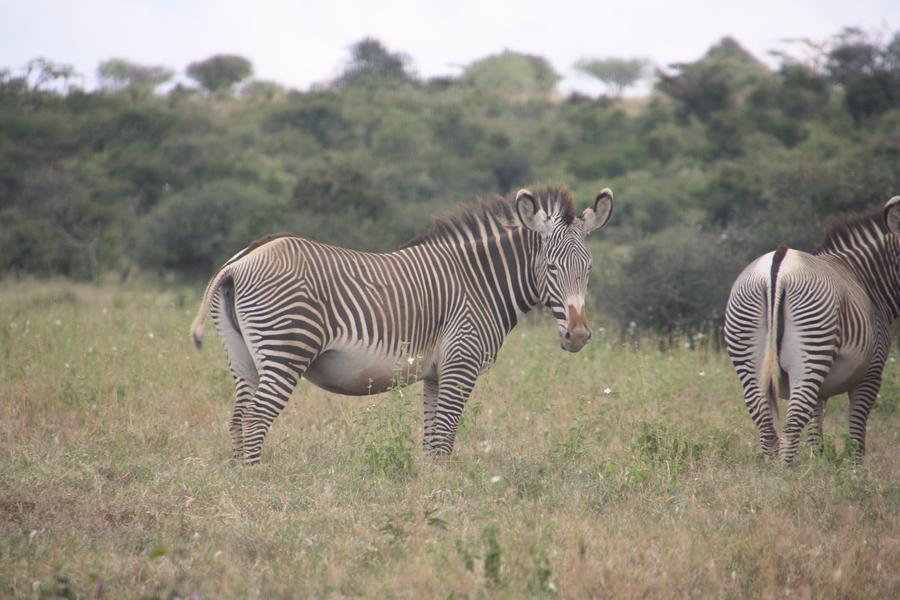zebra_grevys: (228, 220, 490, 366)
